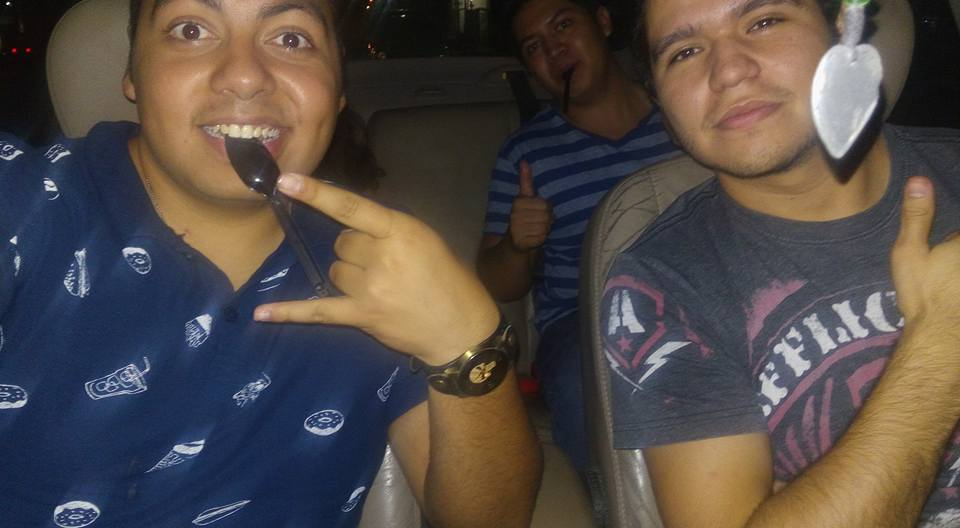Yoshi: (104, 5, 413, 215)
